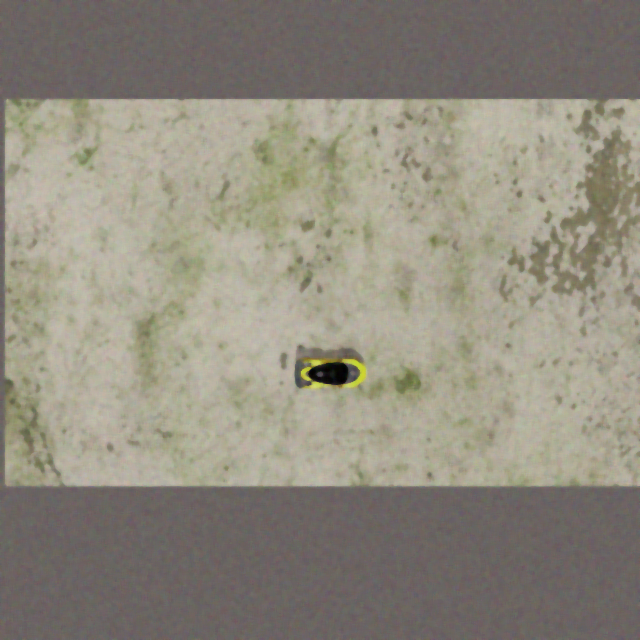car: (294, 356, 367, 391)
